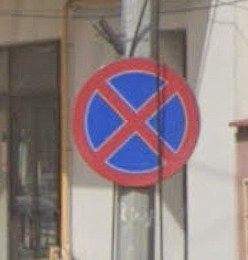oprirea_interzisa: (72, 58, 199, 186)
